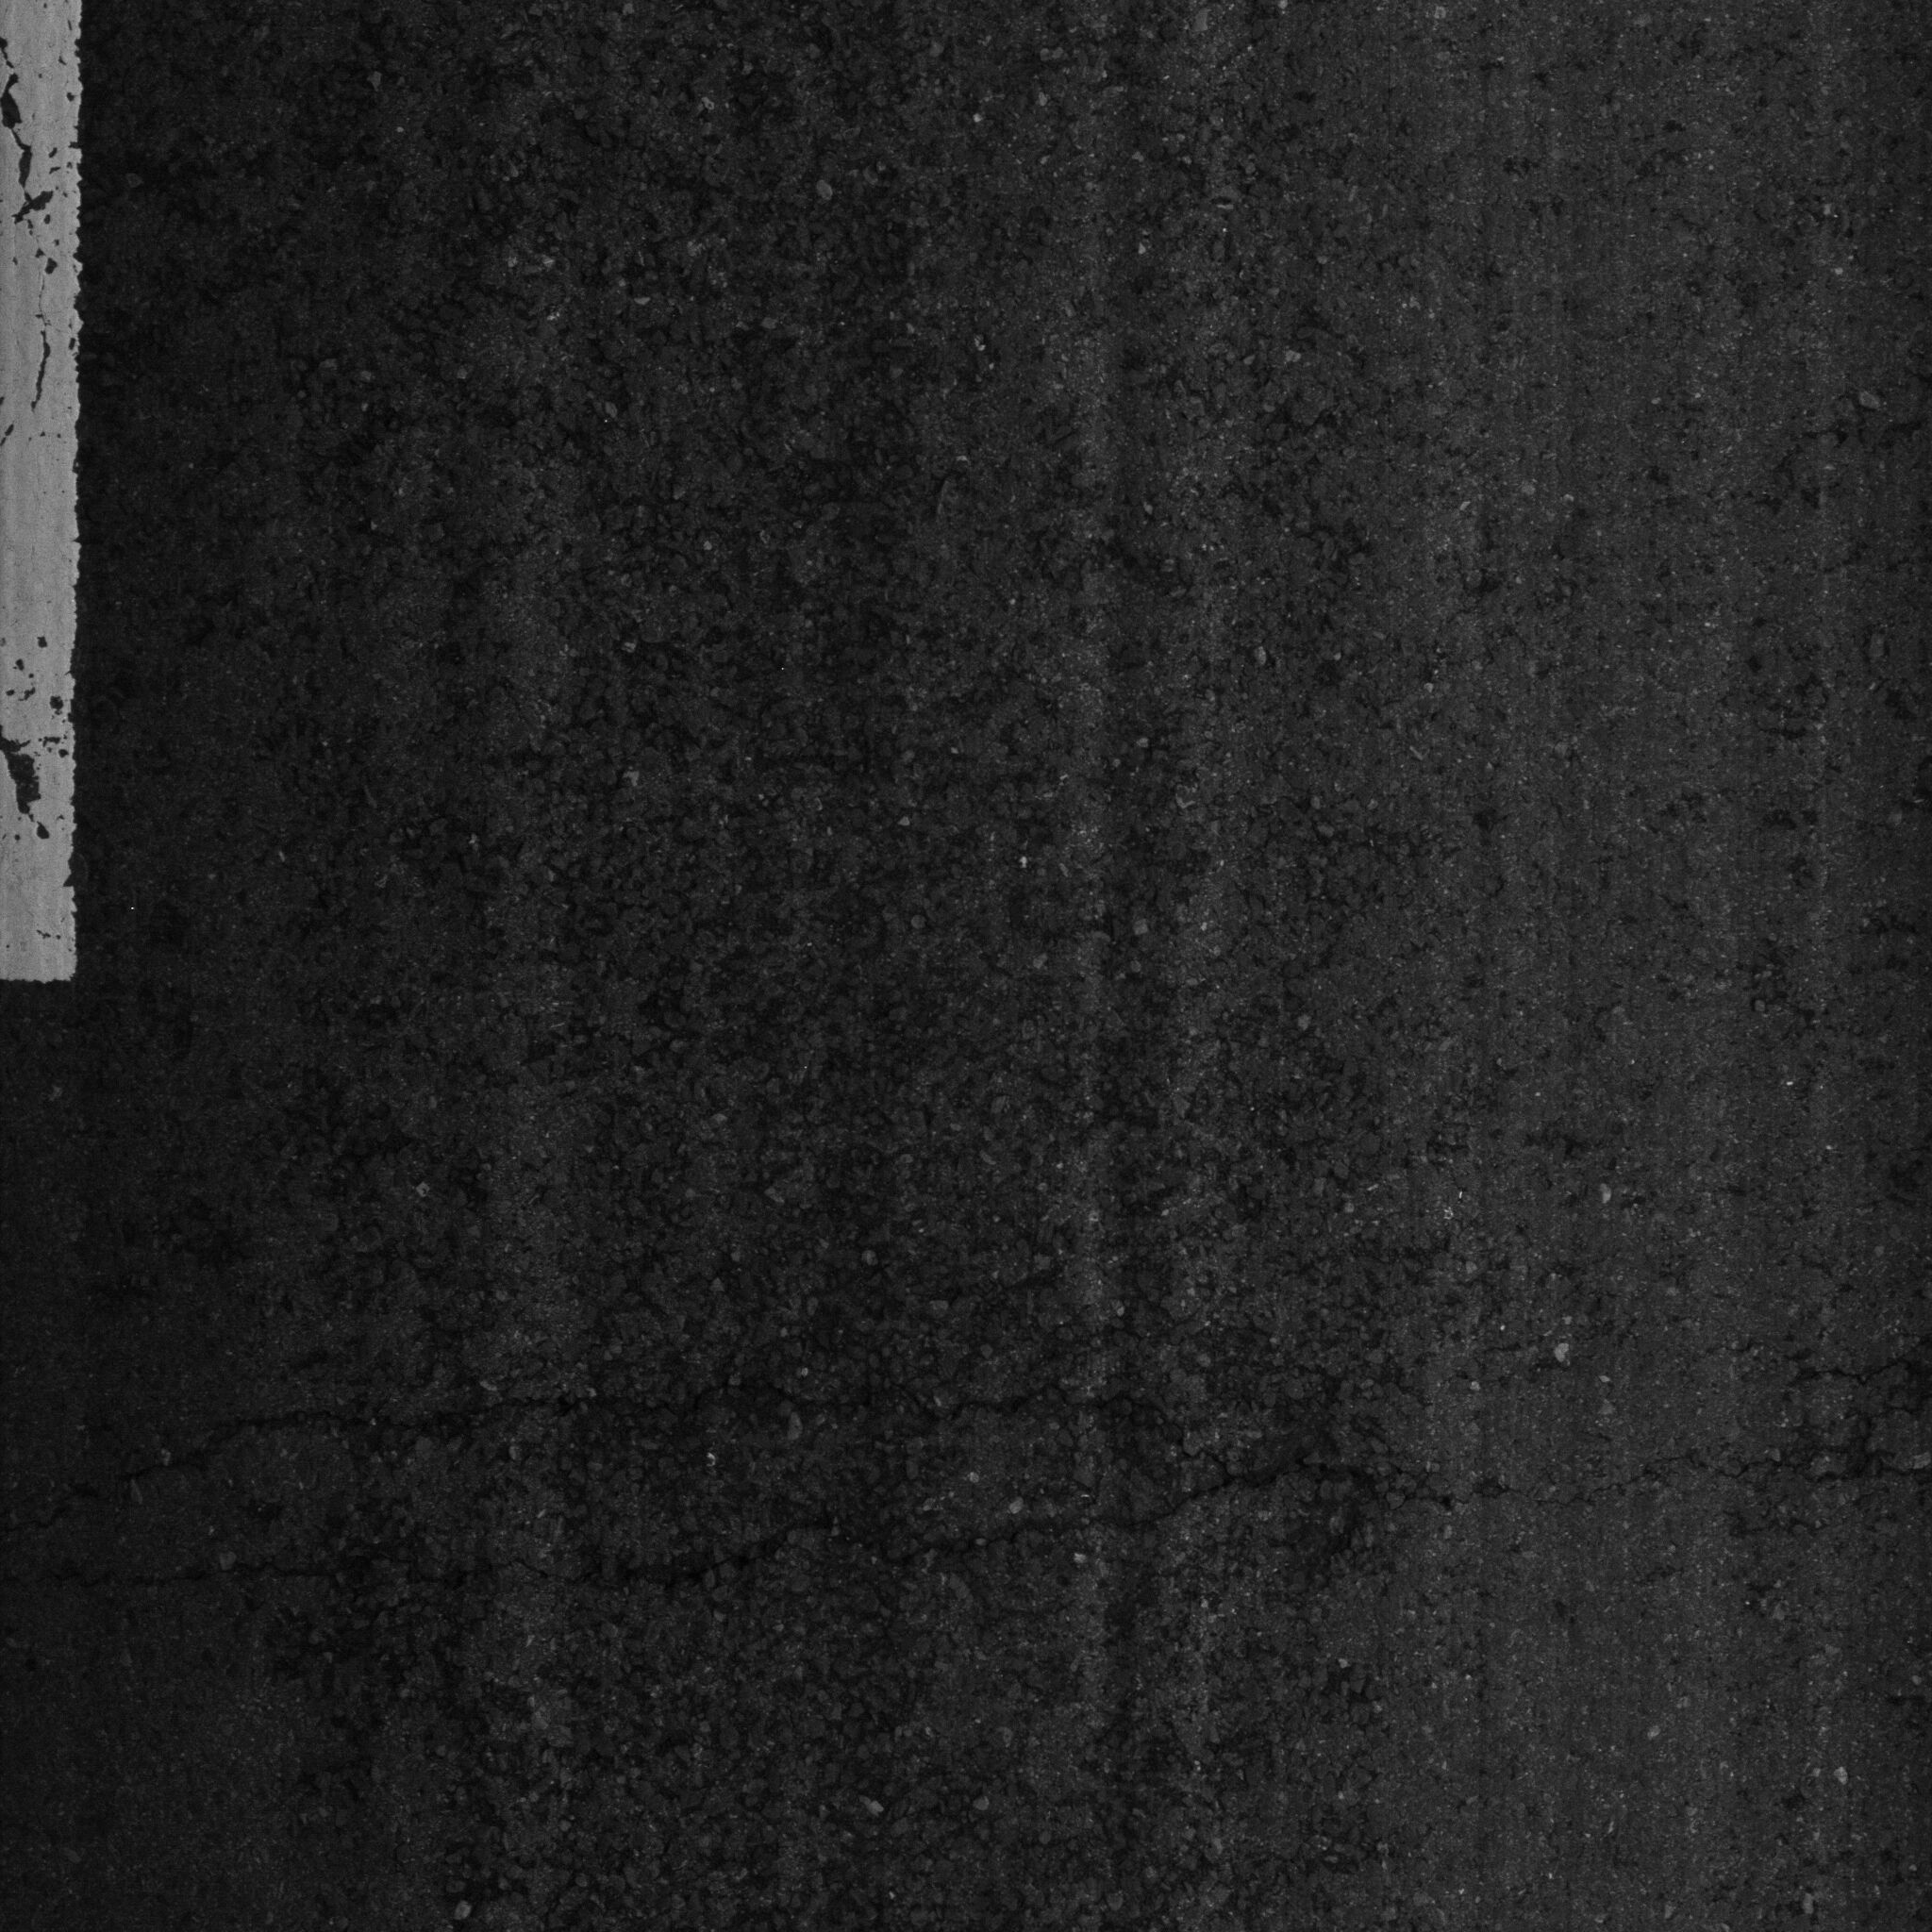transeverse: (55, 1359, 1920, 1615)
